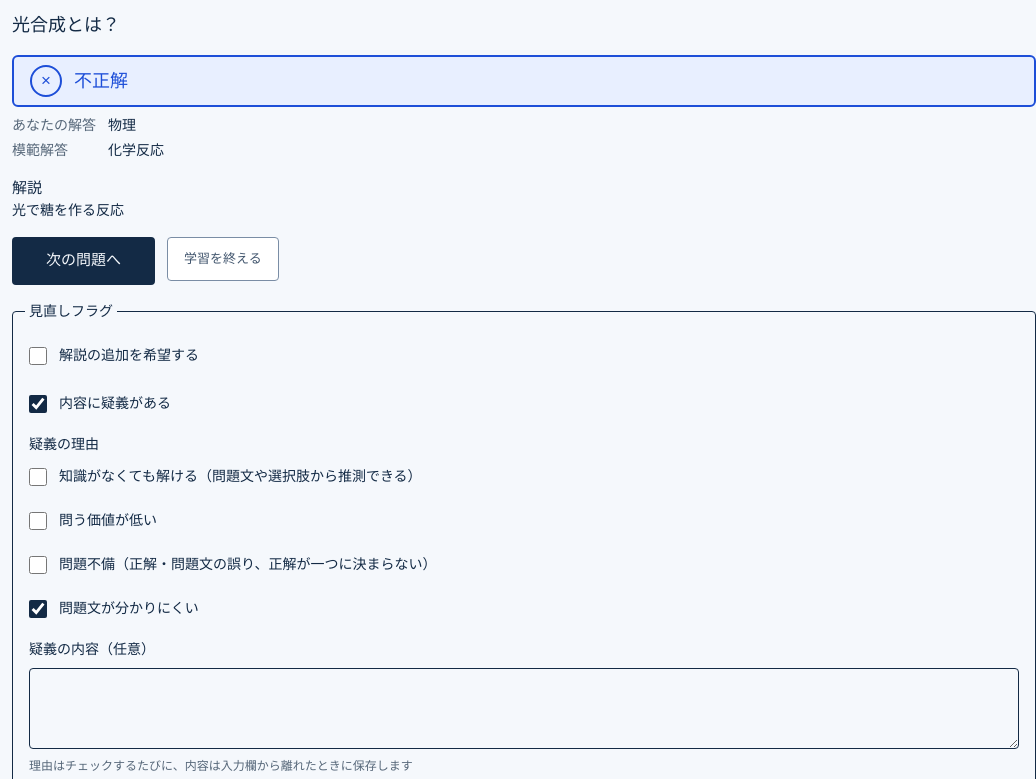
it: QuestionResultPanel › 疑義の理由はチェックするたびに入力中の内容と一緒に正規順で保存する
Expected: the element "疑義の理由" is shown, [29,436,436,618]
Expected: the checkbox labelled "問題文が分かりにくい" is checked, [29,600,47,618]
Type "メモ" into the text box labelled "疑義の内容（任意）" at (524, 708), box [29,668,1019,748]
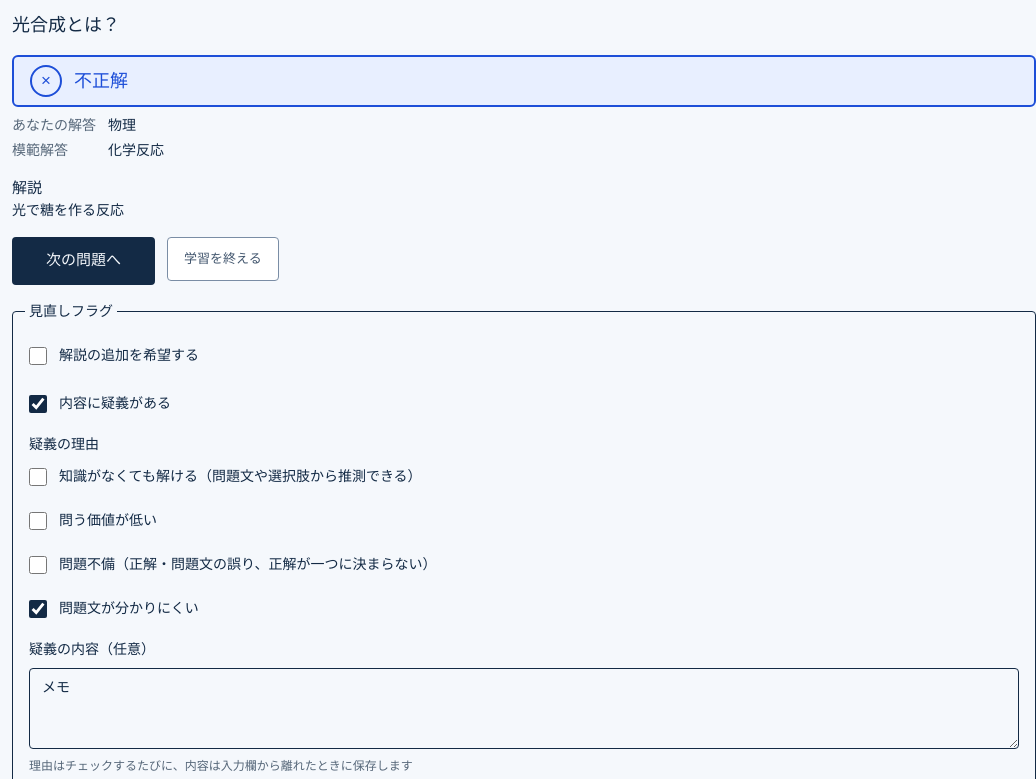
Click the checkbox labelled "知識がなくても解ける（問題文や選択肢から推測できる）" at (38, 476), box [29,468,47,486]
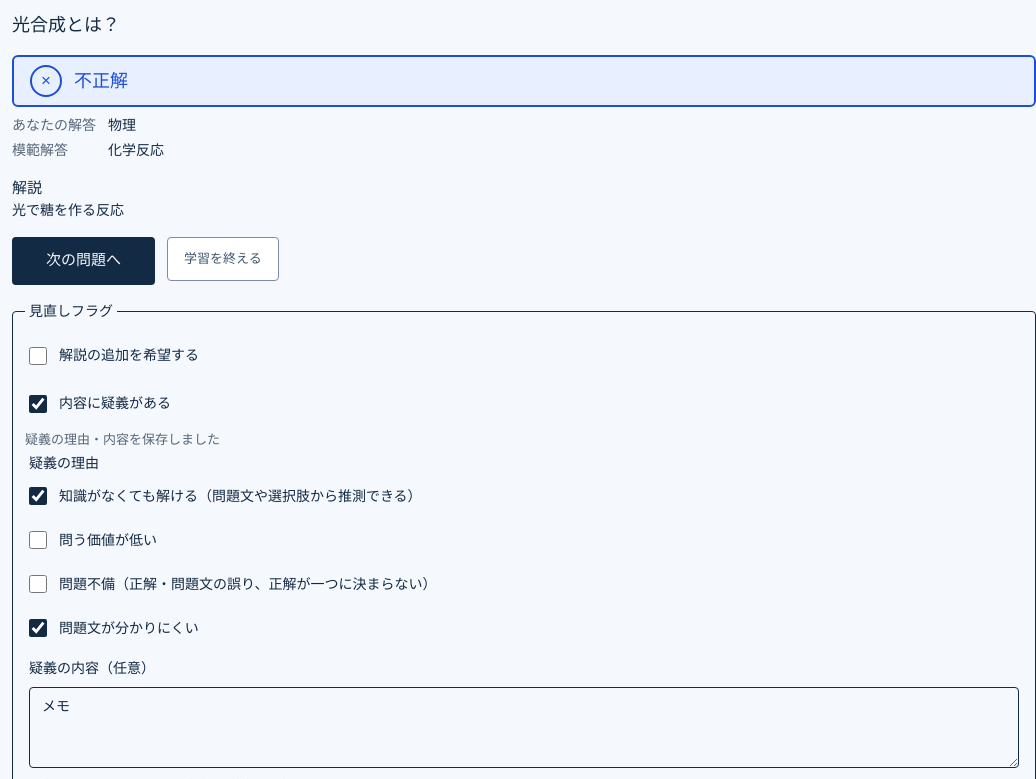
Click the checkbox labelled "内容に疑義がある" at (38, 404), box [29,394,47,412]
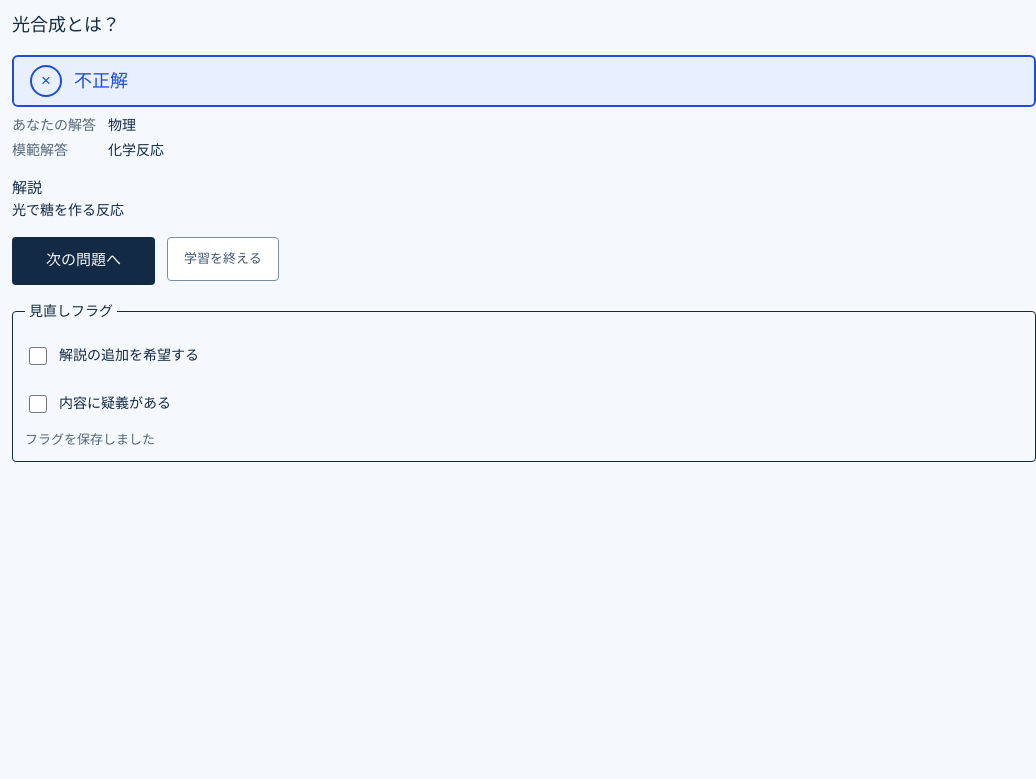
Now the text "疑義の理由" is gone
